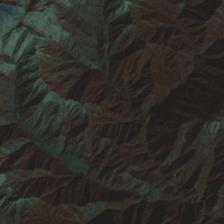landslides: (42, 61, 77, 80), (71, 82, 83, 102), (67, 76, 82, 87), (0, 112, 15, 121), (92, 83, 109, 90)
